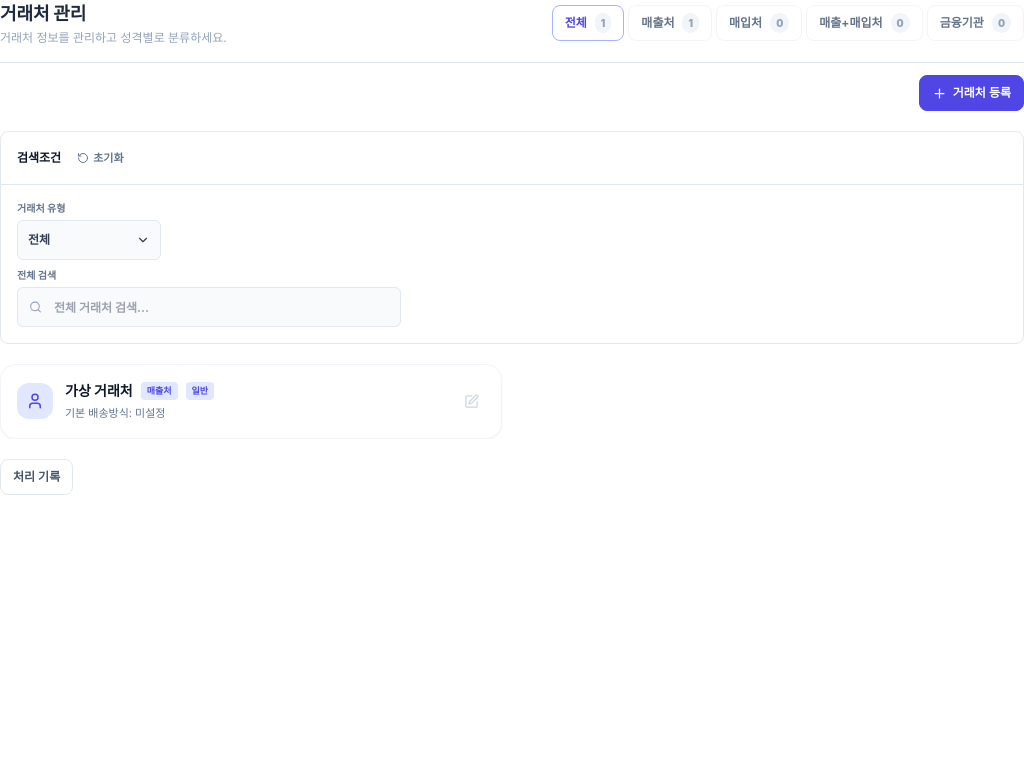
Test: 신규 등록은 부모에서도 ACK를 기다리고 충돌 확인을 누를 때만 서버 현재값의 수정창을 연다
Step 1. Click the button "거래처 등록" → click(971, 93), box [919, 75, 1023, 111]
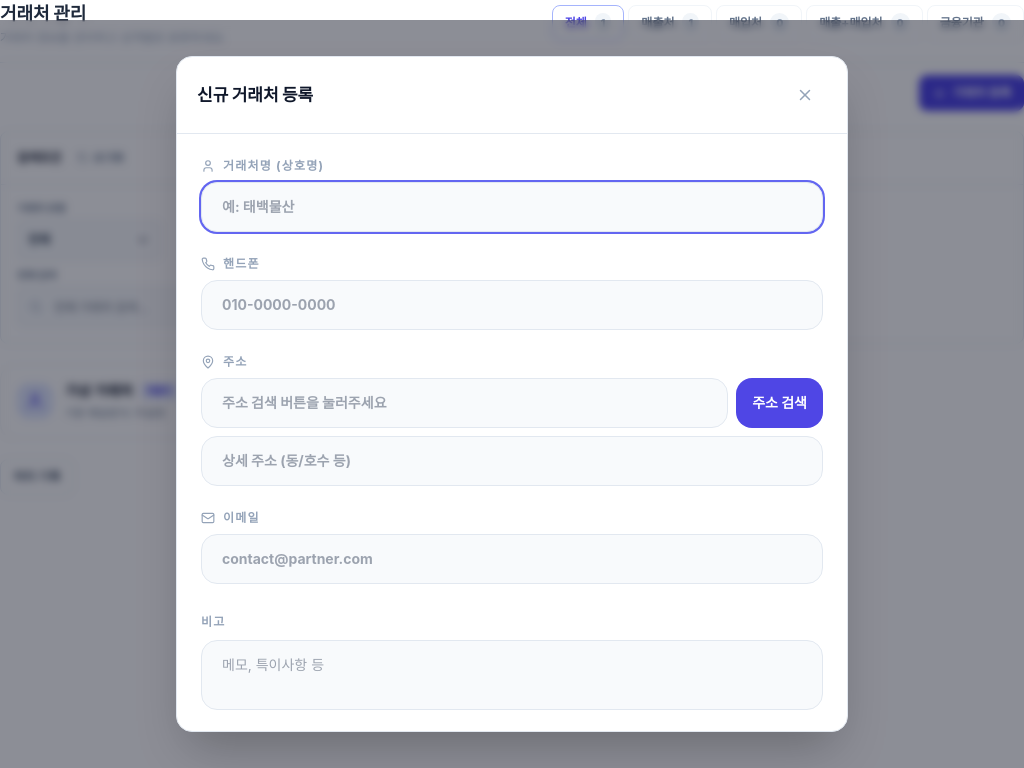
Step 2. Type "새 초안" into the field with placeholder "예: 태백물산" → (512, 207), box [201, 182, 823, 232]
(page scrolled)
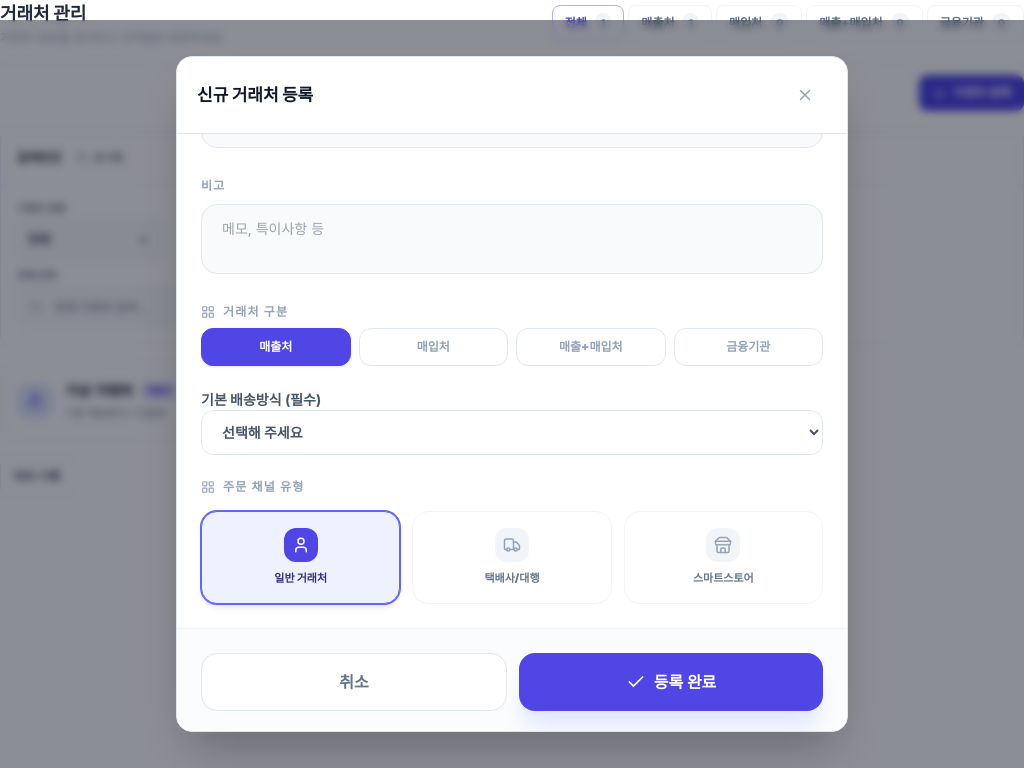
Step 3. Select "화물" in the dropdown labelled "기본 배송방식" → (512, 433), box [201, 410, 823, 455]
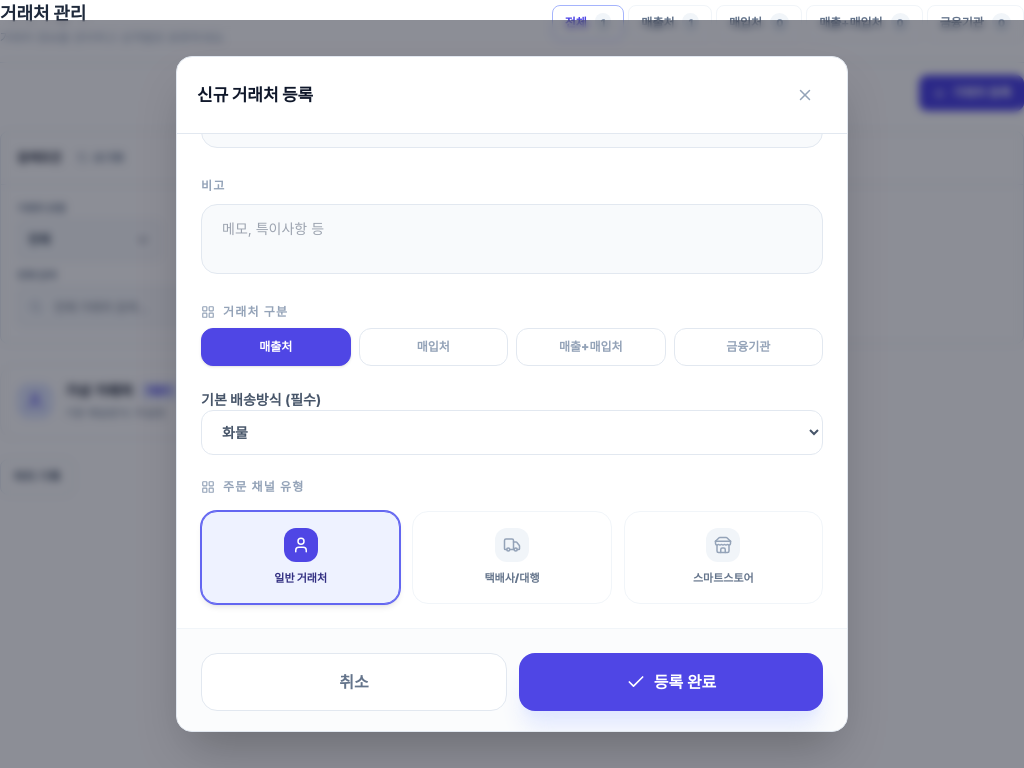
Step 4. Click the button "등록 완료" → click(671, 682), box [519, 653, 823, 711]
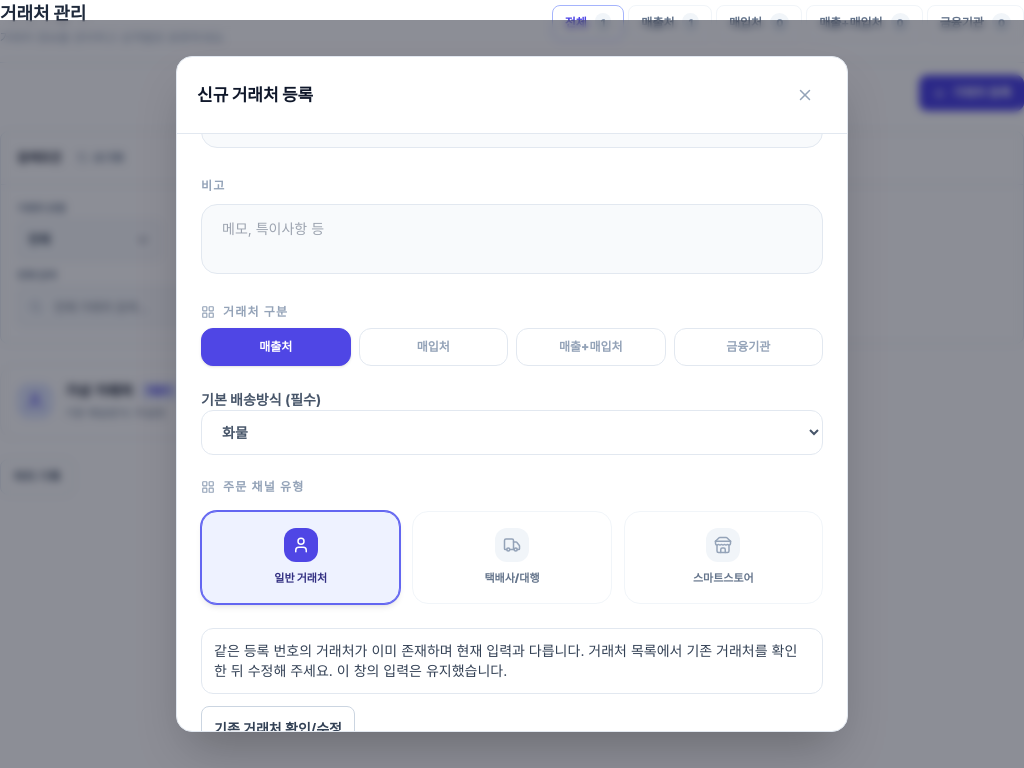
Expected: the dialog "거래처 수정" is not shown
Expected: the dialog "신규 거래처 등록" is shown, [176, 56, 848, 732]
Step 5. Click the button "기존 거래처 확인/수정" → click(278, 729), box [201, 706, 355, 752]
(page scrolled)
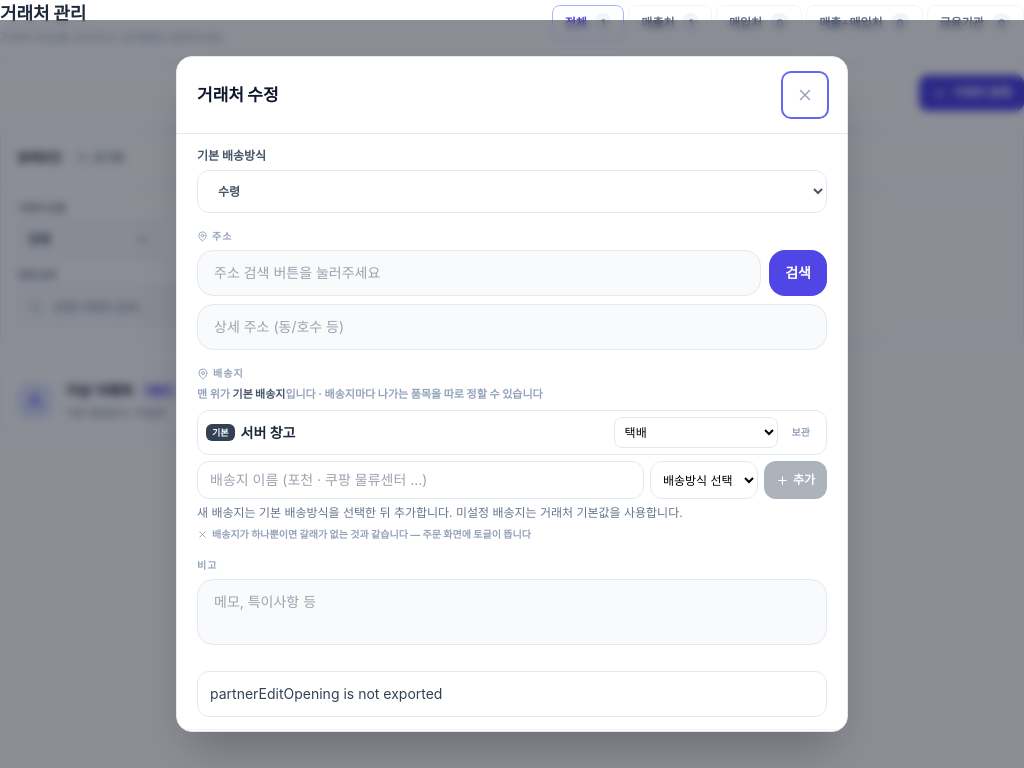
Expected: the heading "신규 거래처 등록" is gone
Expected: the dialog "거래처 수정" is shown, [176, 56, 848, 732]
Expected: the dropdown labelled "기본 배송방식" shows "수령", [197, 170, 827, 213]
